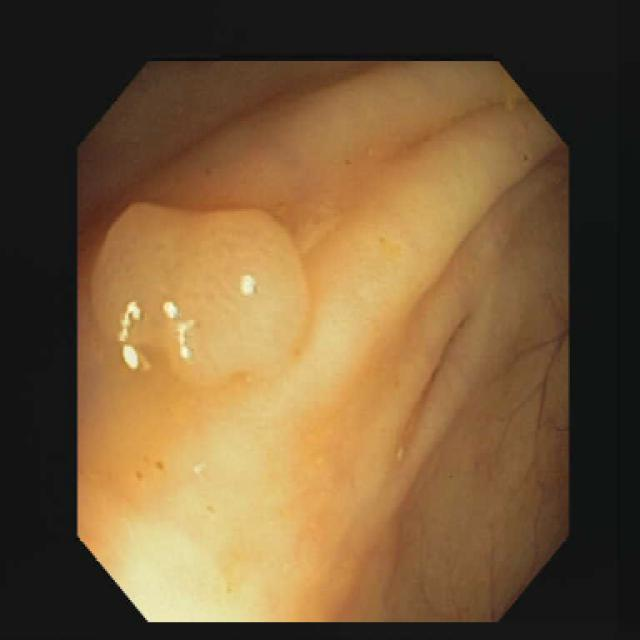tumor: (78, 200, 312, 449)
